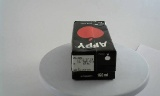appy: (64, 20, 109, 81)
